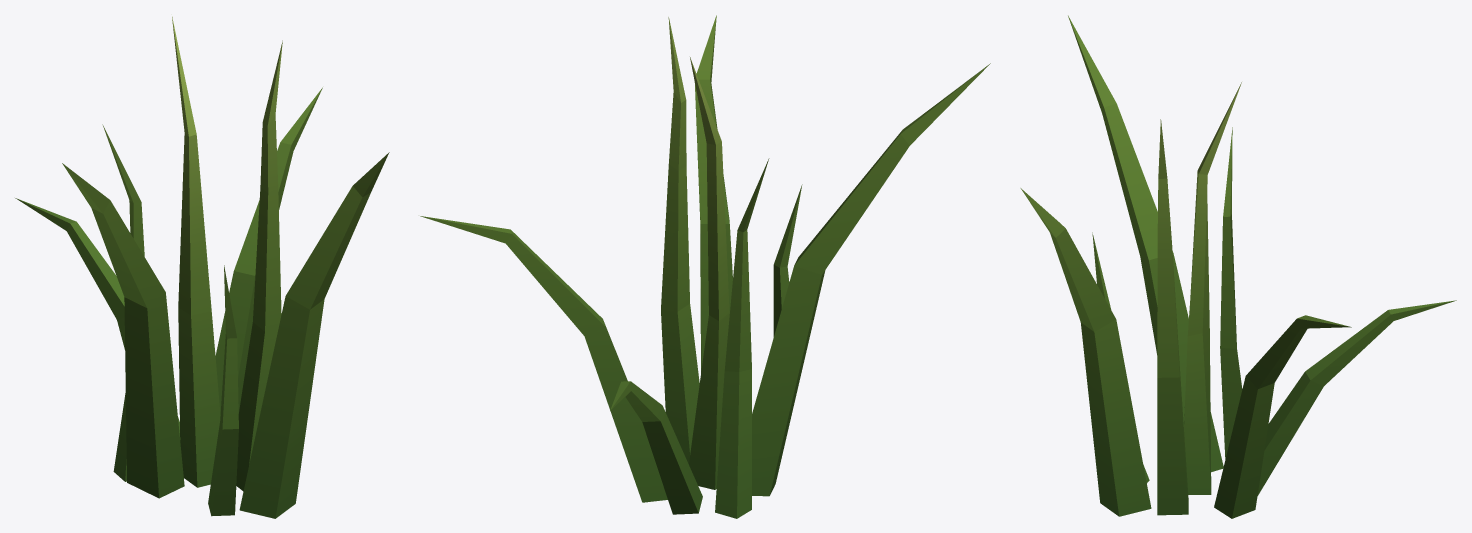
Rendered from Summer_Grass_03.glb.
The picture shows the model from 3 angles, left to right: view 1: azimuth 30°, elevation 25°; view 2: azimuth 150°, elevation 25°; view 3: azimuth 270°, elevation 25°; orthographic projection. The views are drawn at different scales.
Parts seen in each view (by area): view 1: Summer_Grass_03_LOD0; view 2: Summer_Grass_03_LOD0; view 3: Summer_Grass_03_LOD0.
Boxes of the visible parts, <box> form: Summer_Grass_03_LOD0: <box>15,16,389,518</box>; Summer_Grass_03_LOD0: <box>420,15,990,518</box>; Summer_Grass_03_LOD0: <box>1020,15,1456,518</box>.
Size of what is drawn, in the model's own units: 0.4174 by 0.4367 by 0.4167.
1 material, 1 textured.
